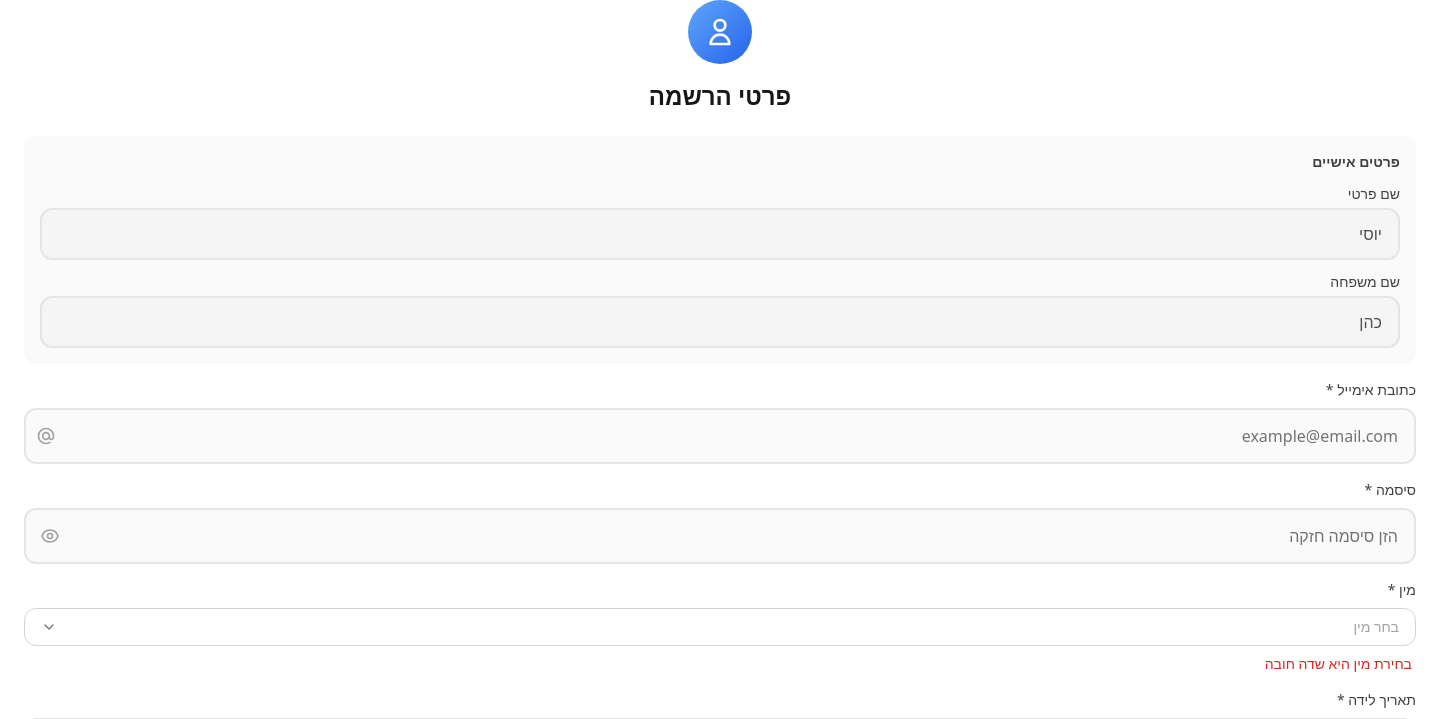
Test: RegistrationDetailsStep Component › real-time validation › shows the email error when validation fails
Type "invalid" into the field with test id "email-input" at (720, 436), box [24,408,1416,464]
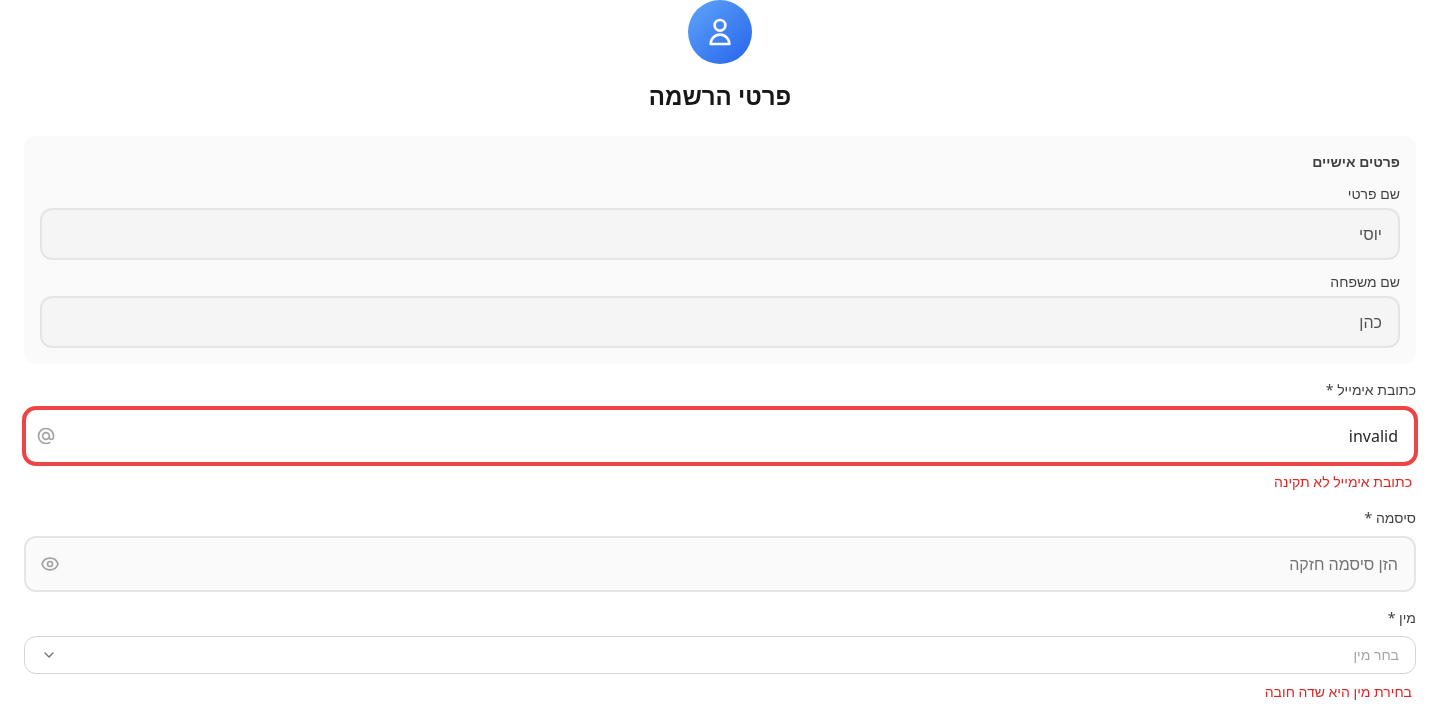
Expected: the text "כתובת אימייל לא תקינה" is shown, [1274,472,1412,491]
